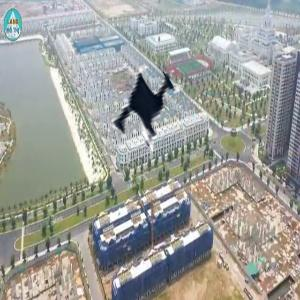drone: (90, 48, 211, 169)
